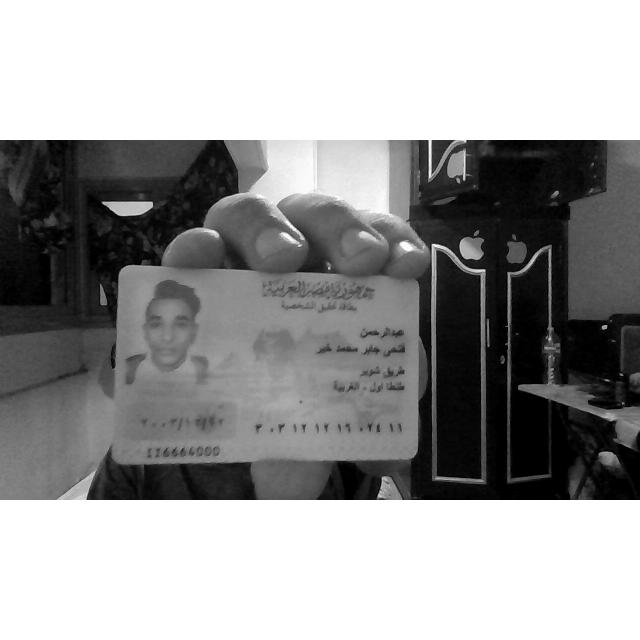id_card: (112, 265, 419, 463)
